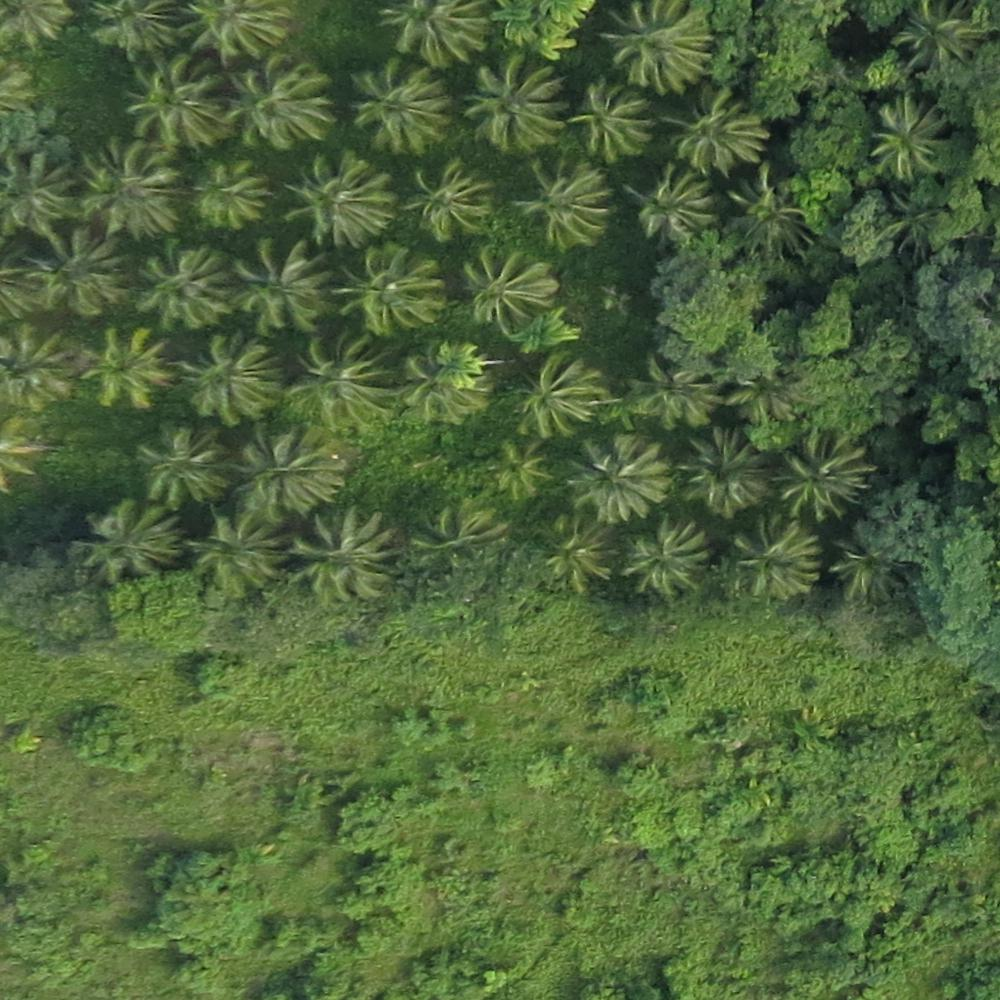Palm: (290, 331, 395, 432), (79, 136, 183, 233), (231, 231, 332, 330), (234, 426, 346, 515), (179, 331, 287, 423), (230, 55, 334, 149), (288, 152, 391, 245), (123, 57, 229, 147), (458, 242, 565, 331), (473, 56, 568, 156), (604, 1, 716, 85), (295, 507, 395, 601), (134, 236, 234, 330), (520, 156, 620, 250), (339, 242, 444, 331), (351, 61, 450, 151), (665, 86, 767, 172), (571, 435, 671, 519), (32, 228, 128, 315), (625, 160, 722, 246), (130, 423, 227, 505), (80, 325, 172, 409), (782, 431, 870, 517), (80, 504, 182, 578), (736, 512, 821, 598), (514, 355, 601, 439), (625, 345, 715, 426), (681, 431, 769, 511), (411, 158, 495, 241), (624, 517, 712, 596), (569, 80, 654, 161), (401, 342, 489, 419), (194, 513, 281, 590), (869, 97, 951, 177), (416, 505, 511, 572), (896, 2, 983, 71), (540, 515, 619, 590), (192, 157, 271, 230)
